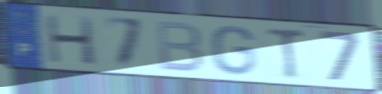7: (317, 29, 364, 84), (102, 14, 146, 71)
B: (153, 19, 205, 75)
G: (211, 24, 258, 77)
H: (43, 12, 99, 67)
T: (265, 26, 309, 80)
